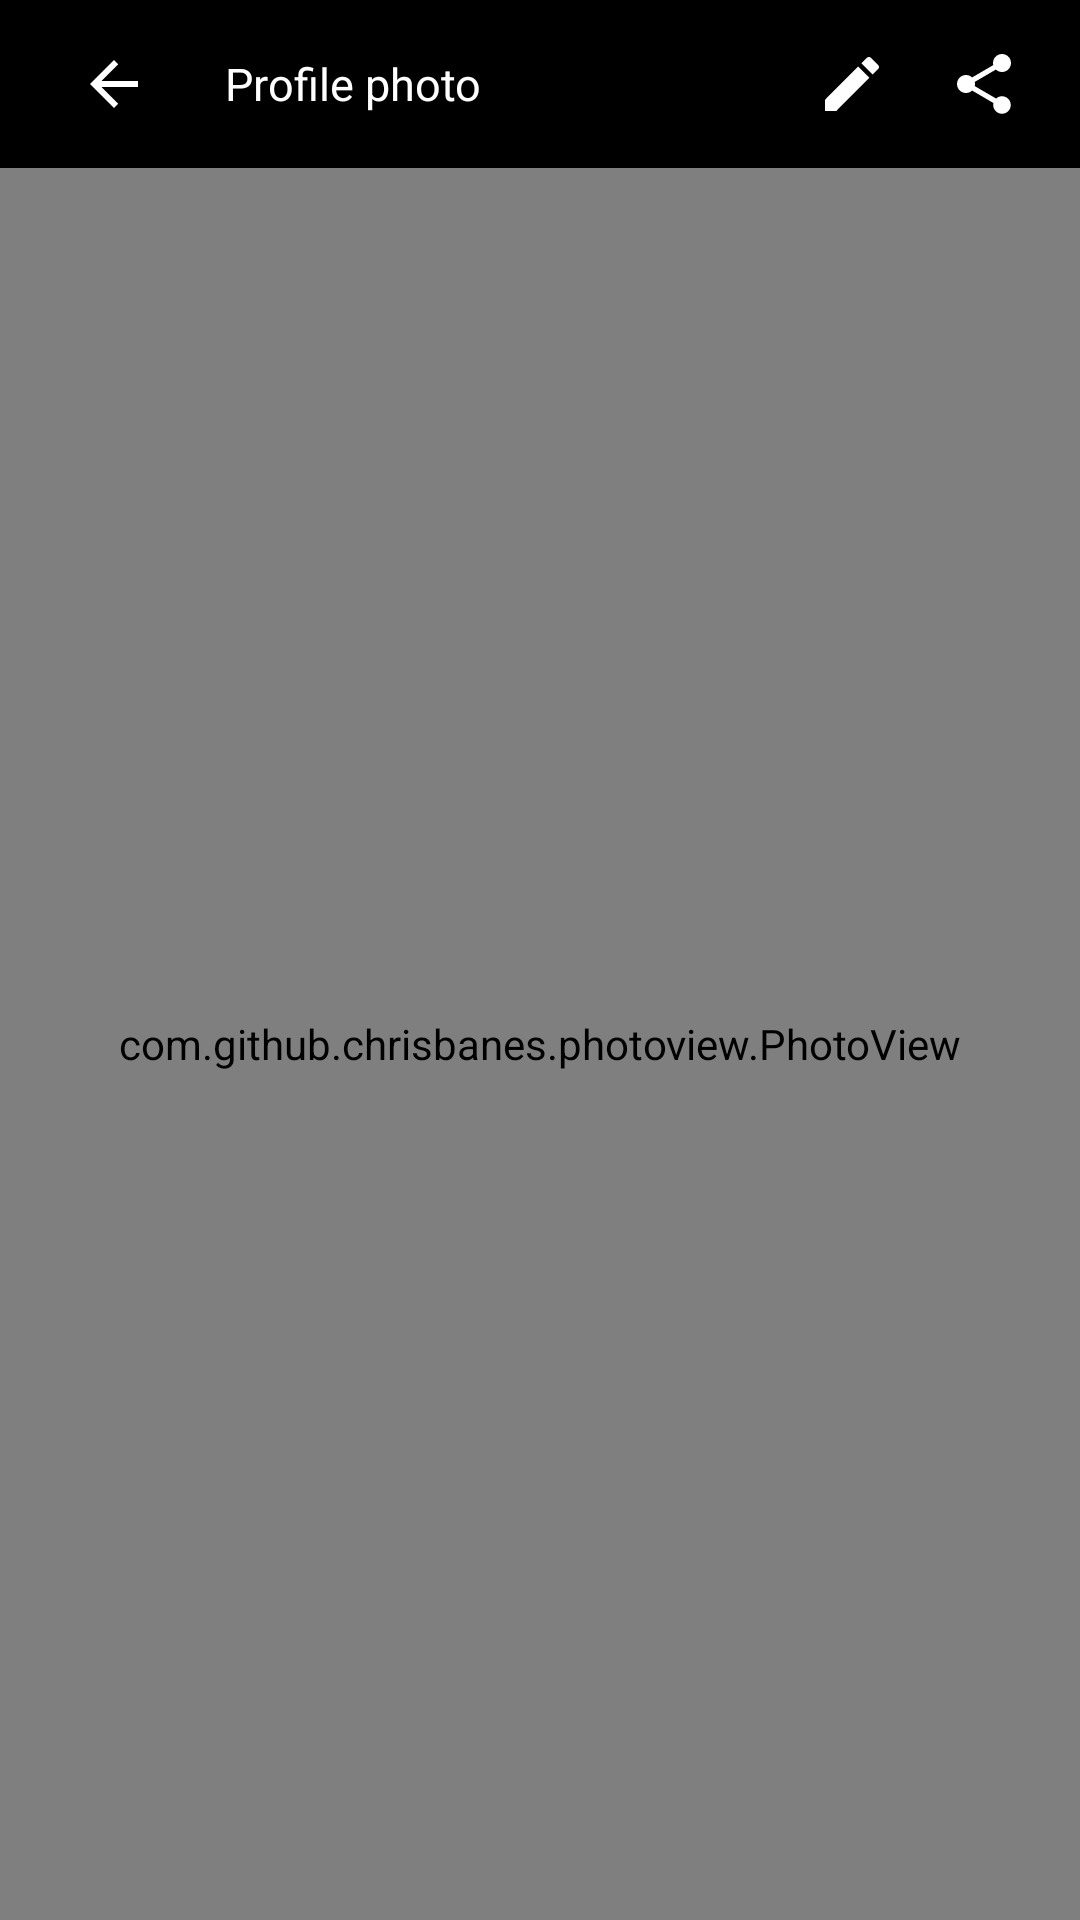

Screen size 1080px x 1920px. Icon name, then its center in pixels as (x=x, y=y):
arrow back: (x=114, y=84)
edit: (x=852, y=84)
share: (x=984, y=84)
